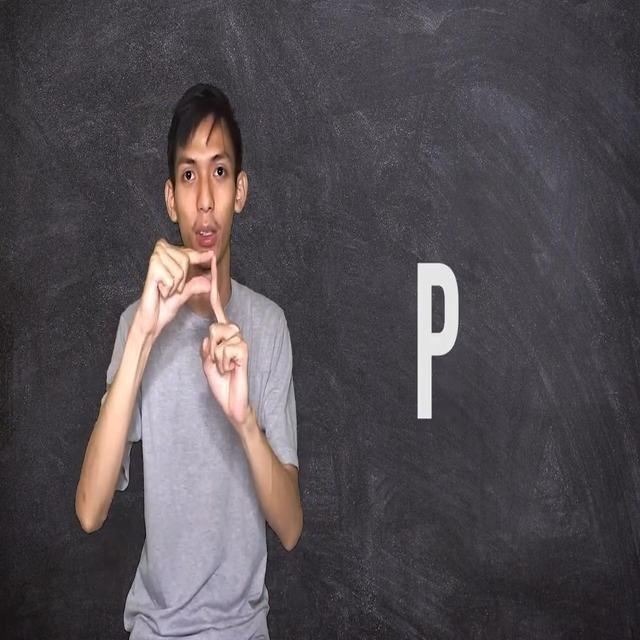P: (143, 235, 239, 380)
